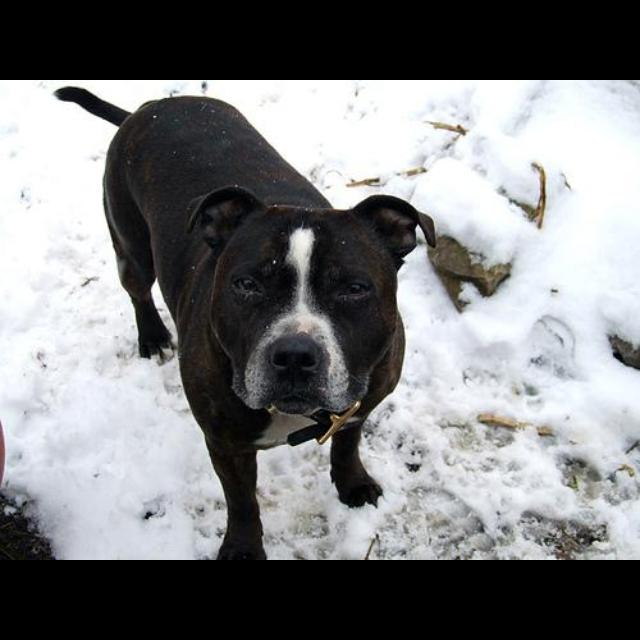amstaff: (53, 85, 438, 559)
